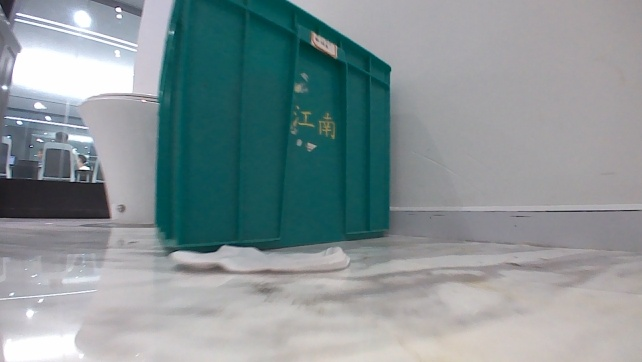socks: (166, 243, 351, 275)
toilet: (75, 89, 158, 227)
